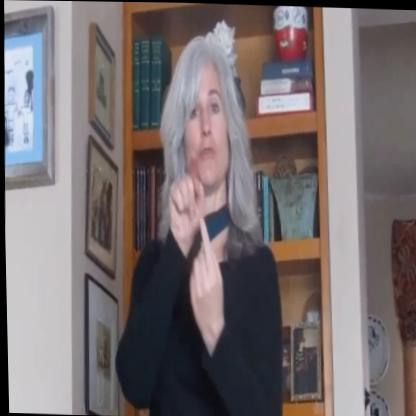NiceToMeetYou: (166, 158, 235, 358)
